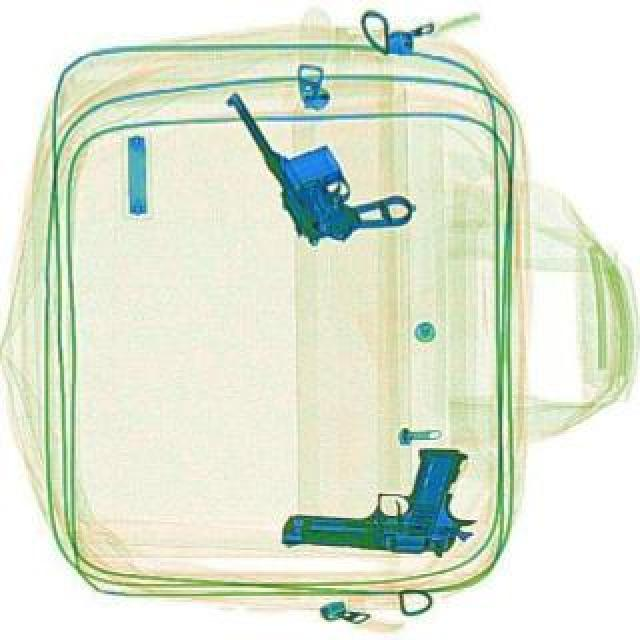gun: (222, 48, 418, 264), (280, 442, 478, 558)
